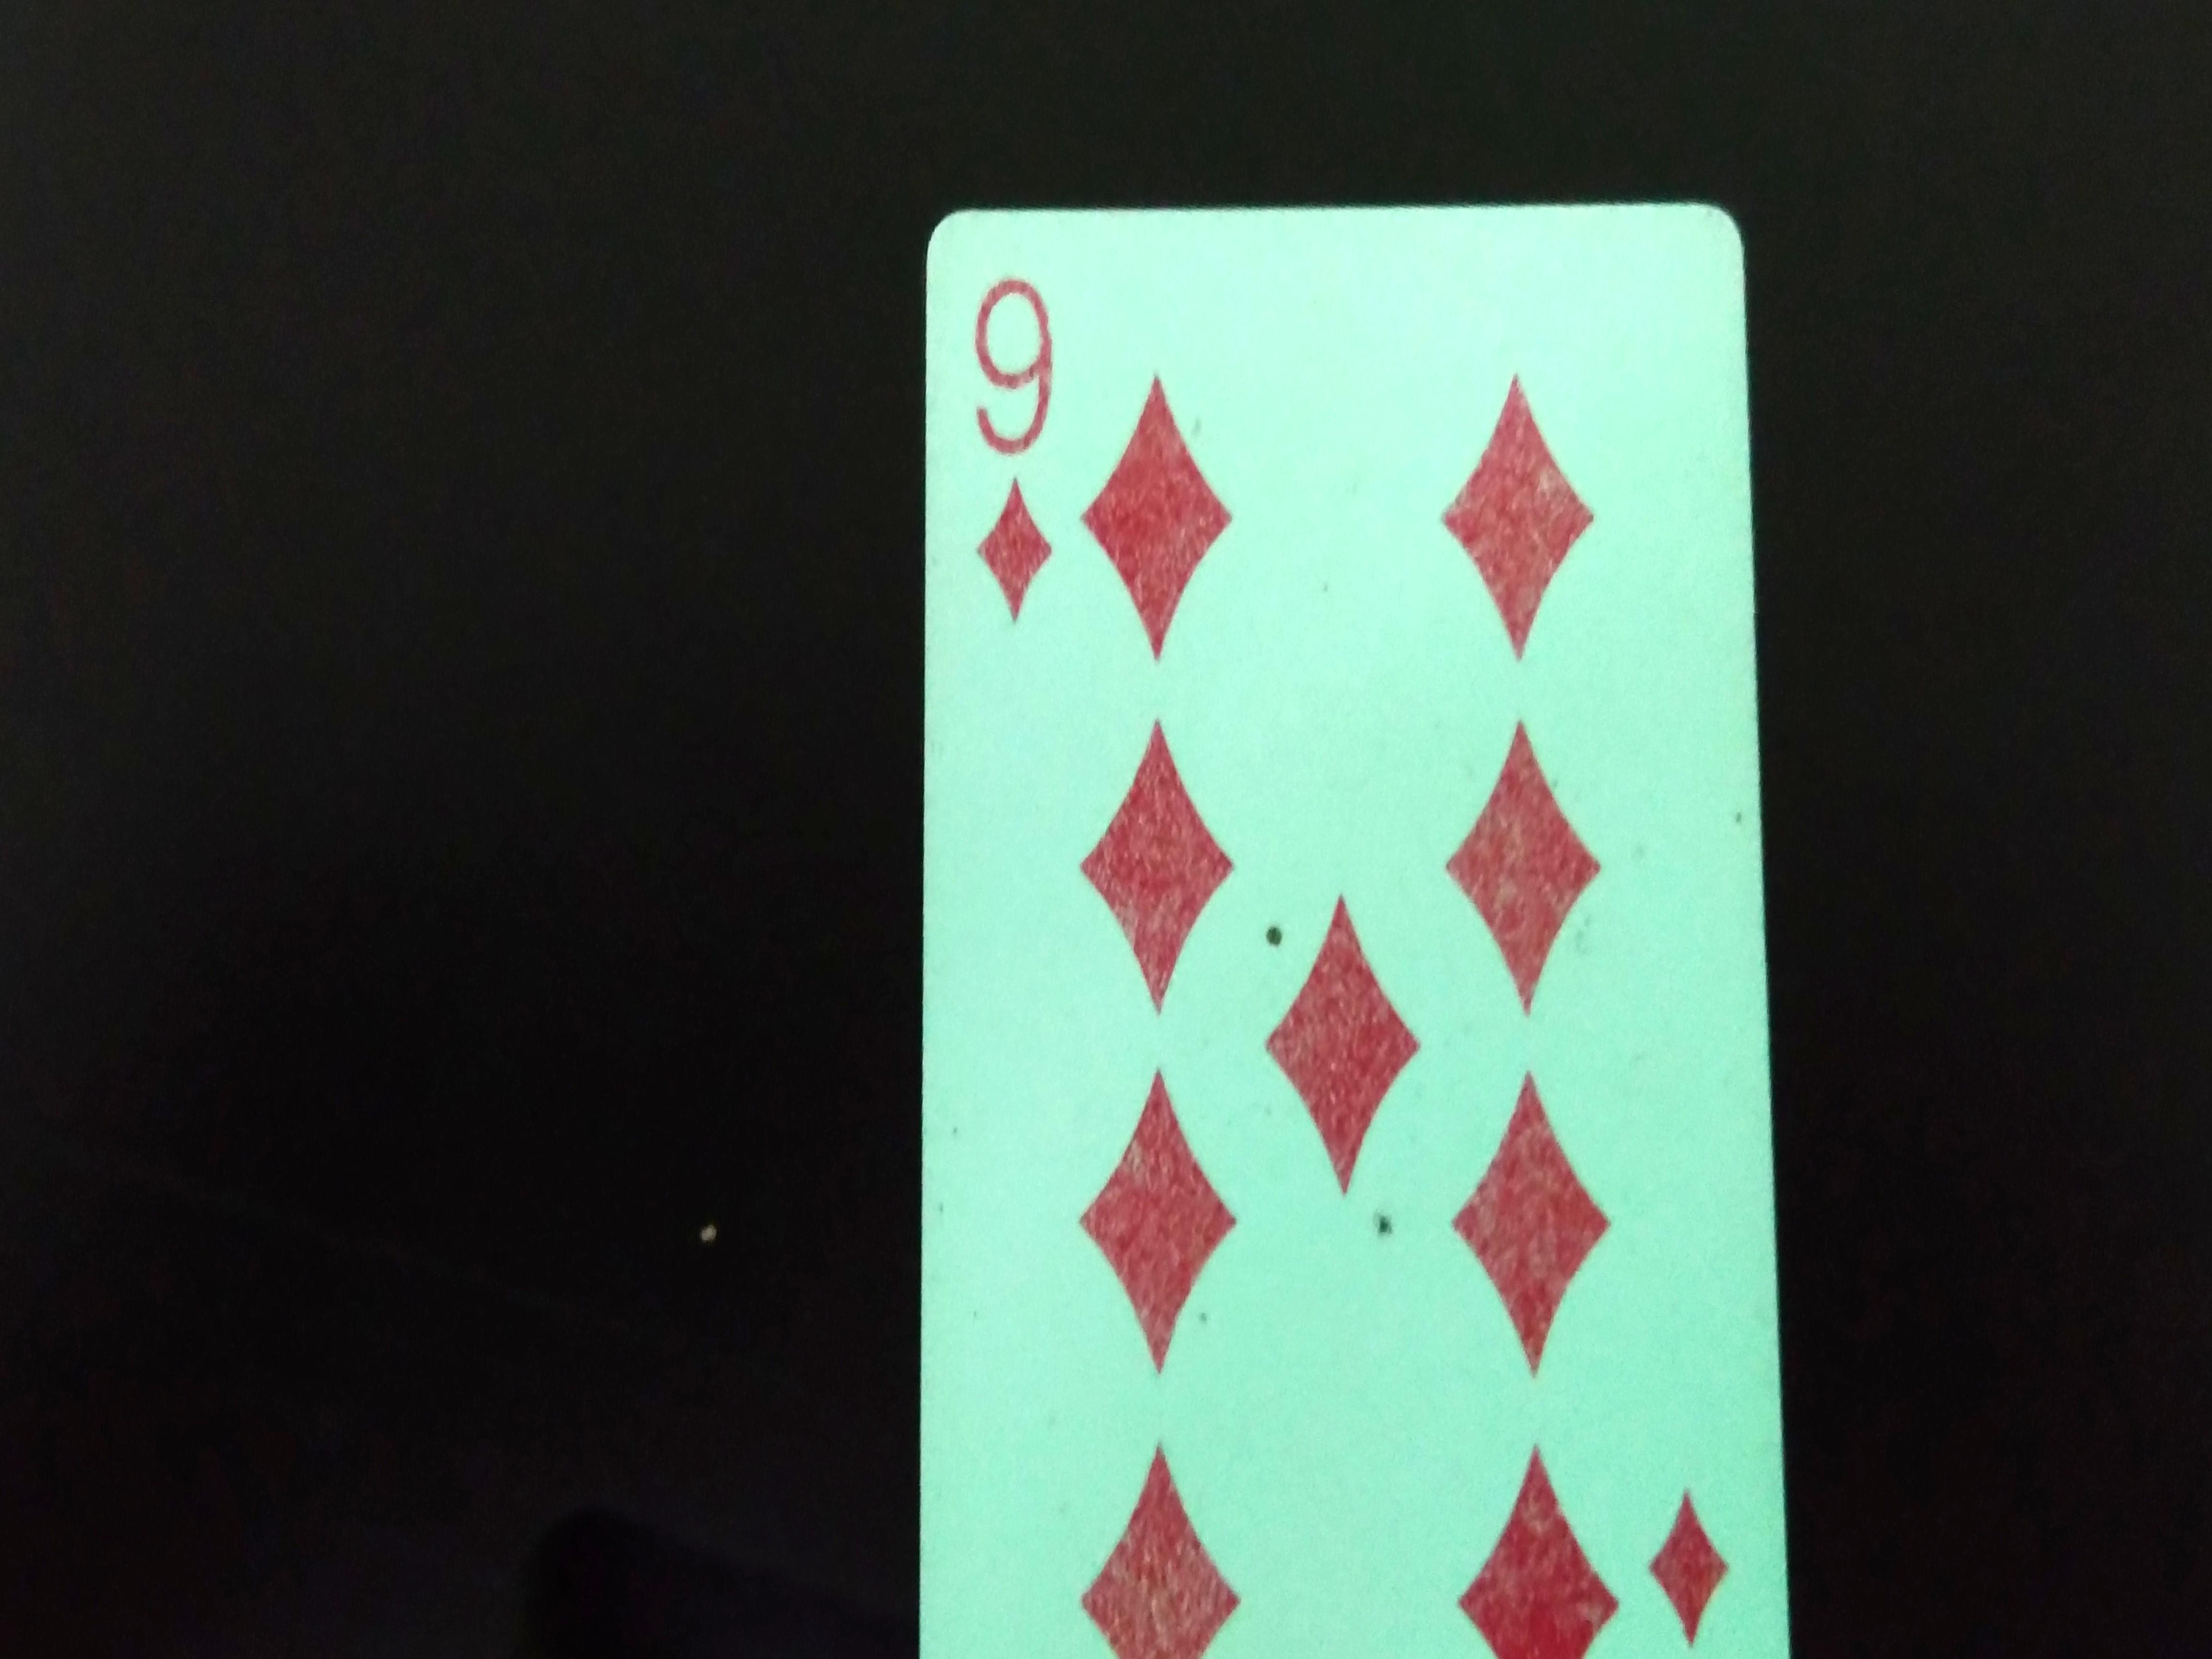9D: (930, 232, 1094, 662)
